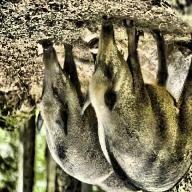boar: (81, 4, 192, 192), (24, 15, 108, 192)
